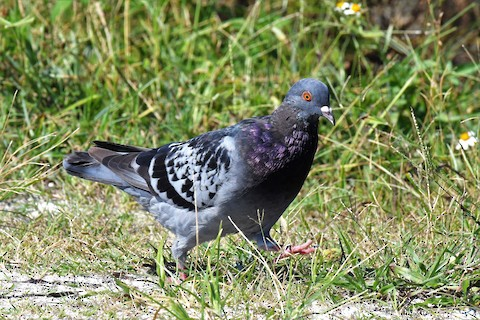pigeon: (65, 72, 342, 285)
